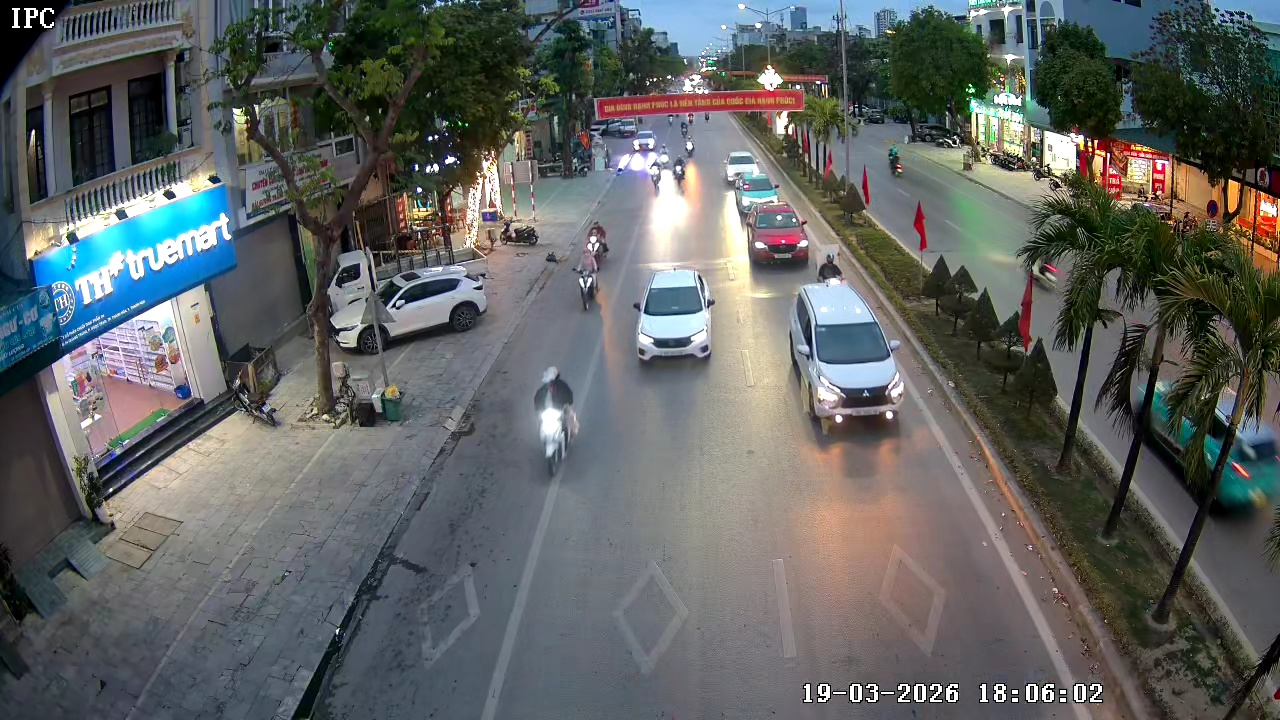car: (787, 282, 903, 440), (365, 262, 489, 352), (631, 265, 717, 367), (744, 200, 812, 268), (734, 170, 780, 224), (723, 148, 759, 189)
motorbike: (531, 363, 582, 479), (572, 245, 600, 311), (585, 216, 611, 267), (817, 251, 844, 283), (647, 156, 664, 190), (669, 149, 684, 187)
